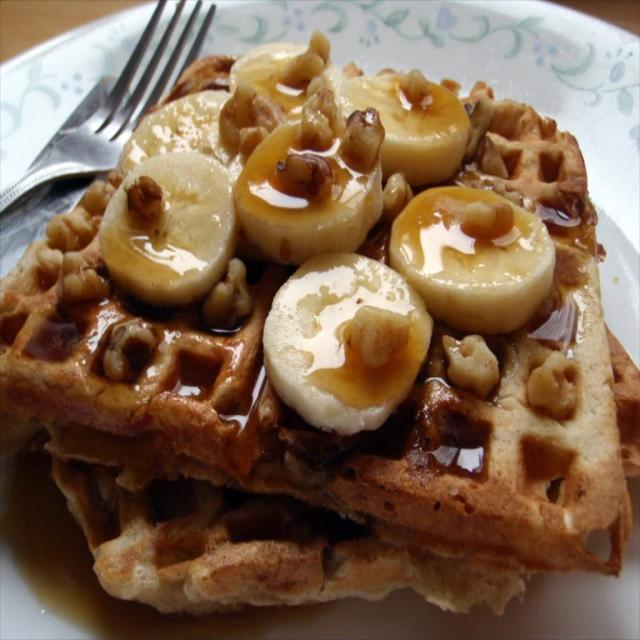Waffle: (0, 55, 638, 581), (37, 320, 639, 622), (42, 321, 640, 621)
